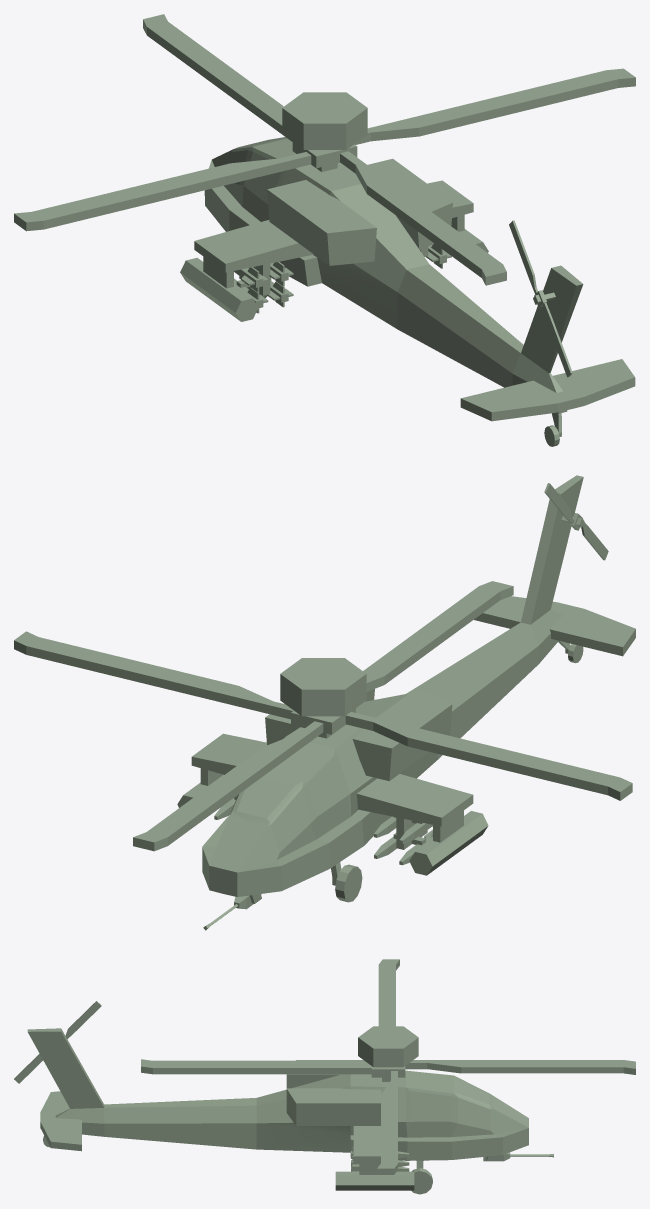
File: attack_heli.fbx
3 views of the same model, one above another, from view 1: azimuth 30°, elevation 25°; view 2: azimuth 150°, elevation 25°; view 3: azimuth 270°, elevation 25° (orthographic). The views are drawn at different scales.
Visible parts, largest first — view 1: attack_heli, rotor_main, rotor_tail; view 2: attack_heli, rotor_main, rotor_tail; view 3: attack_heli, rotor_main, rotor_tail.
Boxes of the visible parts, x1,y1,x2,y2 form: attack_heli: (180,137,635,446); rotor_main: (14,14,635,285); rotor_tail: (509,220,572,377); attack_heli: (177,475,635,930); rotor_main: (14,581,632,851); rotor_tail: (544,483,608,560); attack_heli: (27,1028,553,1194); rotor_main: (141,959,635,1174); rotor_tail: (14,1001,101,1083).
Bounding box in the file's own units: 14.98 × 5.65 × 18.82.
